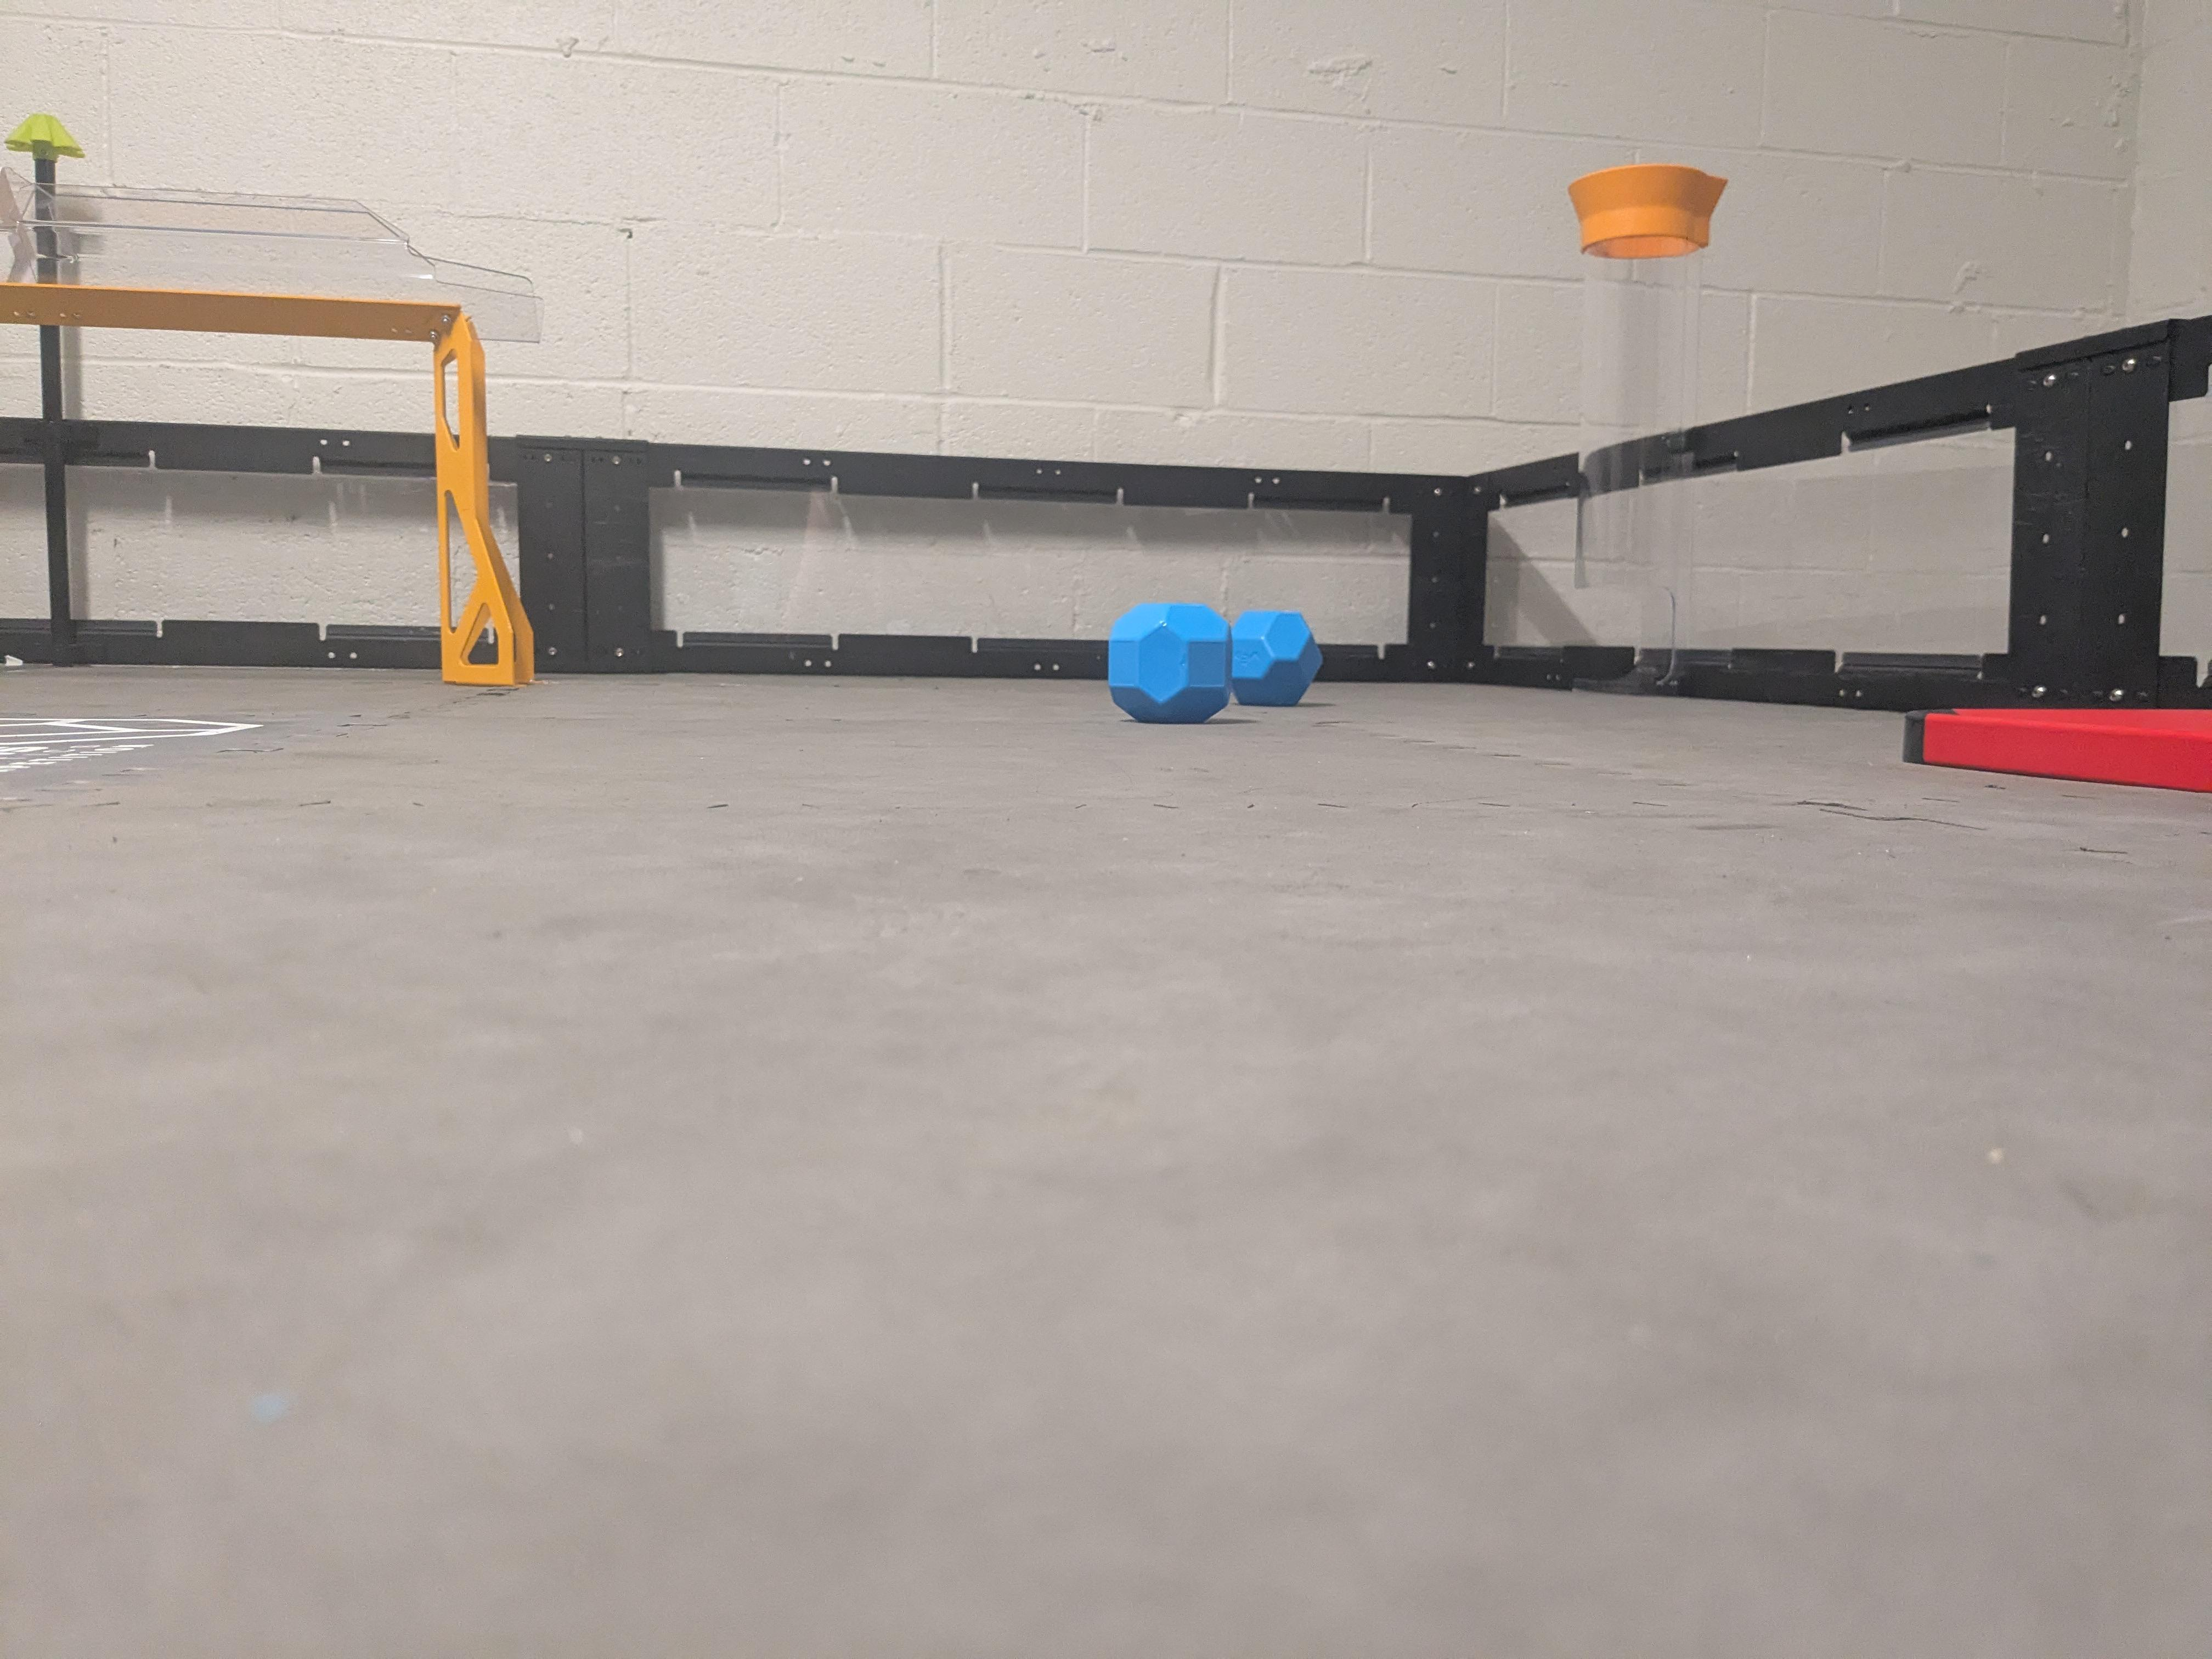Vex-Pieces-BLUE: (1106, 603, 1322, 723)
